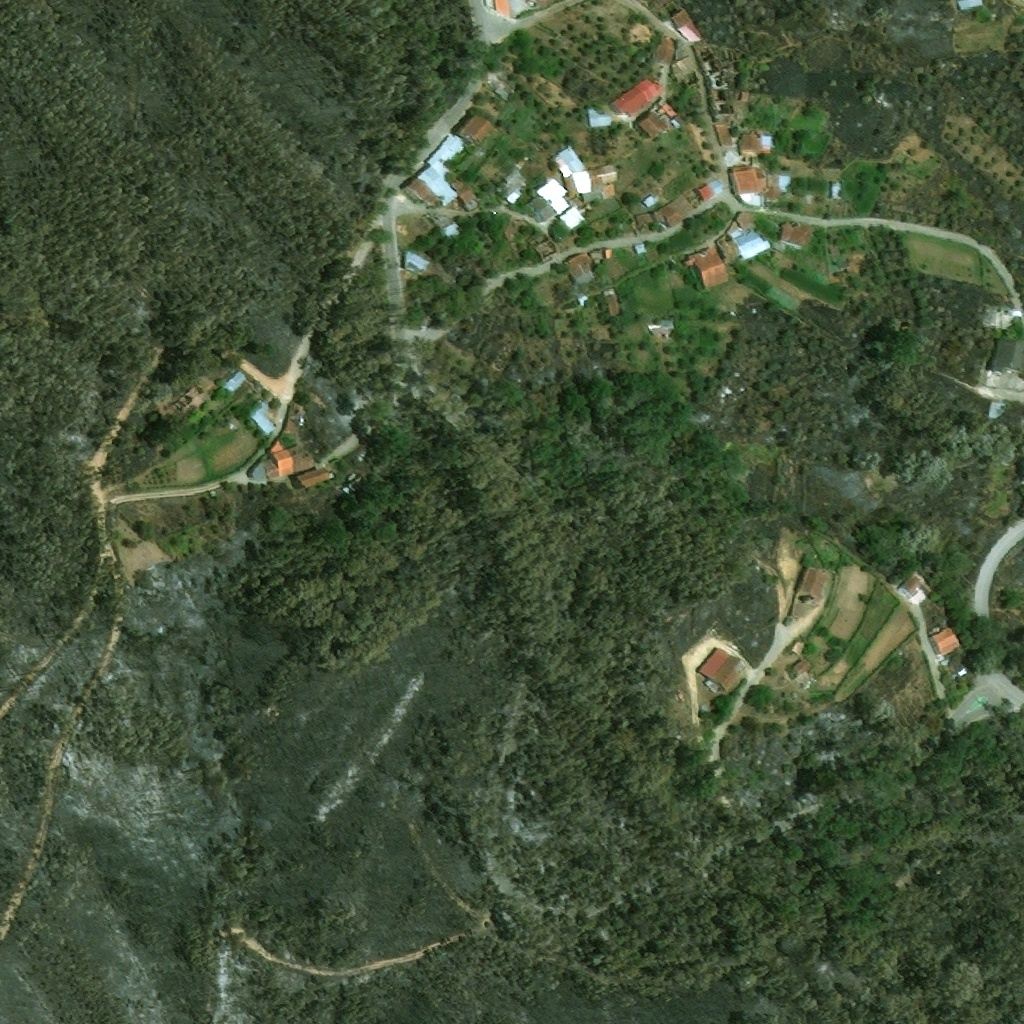0 no-damage: (414, 132, 476, 207), (554, 143, 619, 209), (691, 643, 750, 696), (604, 74, 664, 123), (680, 243, 730, 292), (714, 221, 771, 262), (260, 439, 314, 479), (393, 172, 446, 209), (637, 100, 685, 138), (791, 563, 831, 607), (661, 8, 706, 42), (986, 334, 1023, 375), (728, 168, 768, 205), (924, 621, 961, 660), (653, 194, 695, 227), (562, 251, 596, 287), (537, 176, 570, 213), (423, 212, 463, 242), (458, 114, 496, 142), (248, 400, 277, 434), (777, 222, 812, 248), (291, 468, 332, 488), (694, 178, 723, 205), (895, 573, 921, 600), (528, 195, 556, 220), (737, 128, 761, 157), (220, 369, 247, 394), (644, 318, 677, 338), (655, 34, 676, 65), (602, 287, 623, 316), (503, 217, 529, 239), (587, 107, 612, 127), (713, 124, 734, 147), (635, 212, 655, 229), (791, 658, 810, 675), (828, 181, 844, 199), (641, 194, 657, 208), (632, 242, 648, 255), (778, 175, 791, 190), (762, 135, 776, 147), (606, 249, 614, 259)
3 destroyed: (694, 48, 754, 118), (168, 385, 206, 417), (532, 236, 560, 260)
4 un-classified: (342, 474, 364, 496), (954, 0, 982, 10), (494, 0, 510, 17), (523, 0, 547, 5), (483, 0, 494, 8), (1010, 308, 1020, 315)
